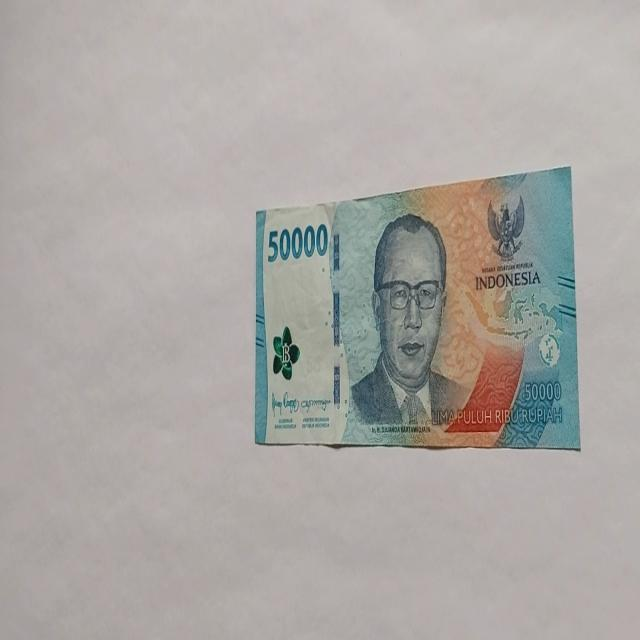lima puluh ribu rupiah: (254, 165, 580, 451), (344, 211, 468, 438)
